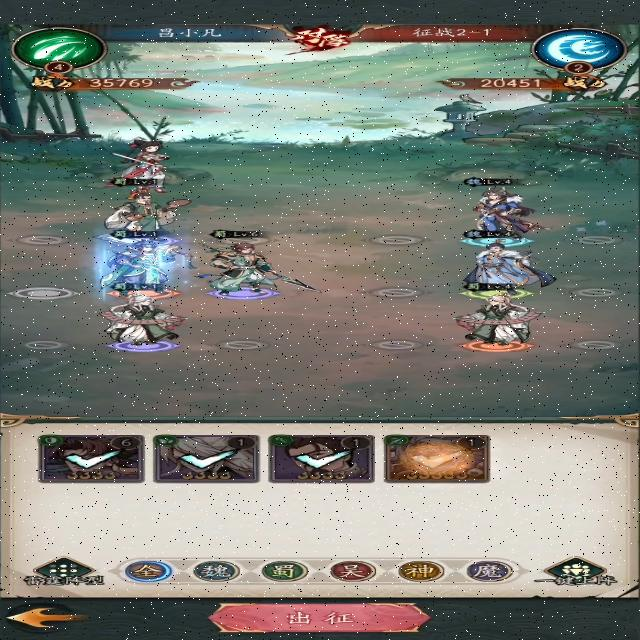navigation-myHeroes: (30, 432, 149, 487), (378, 432, 494, 485), (149, 432, 262, 485), (267, 432, 378, 484)
operation-back: (5, 602, 87, 632)
operation-camp: (392, 557, 448, 584), (253, 558, 311, 584), (460, 558, 518, 584), (118, 558, 178, 583), (321, 558, 381, 583), (187, 559, 243, 583)
operation-confirm: (202, 601, 436, 634)
operation-deployment: (11, 554, 117, 590)
operation-oneKeyDeployment: (530, 551, 619, 588)
